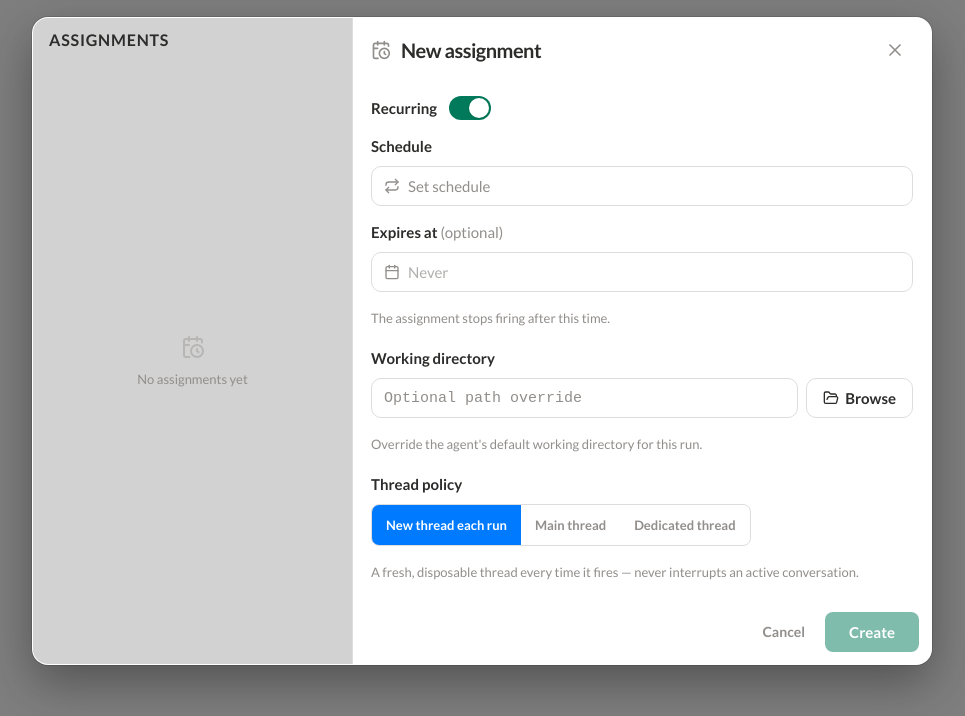
Scenario: AssignmentEditorModal › fills the working directory from the native folder picker
The image size is (965, 716).
(page scrolled)
Click the button with test id "assignment-editor-browse-working-directory" at [860, 398], box [806,378,913,418]
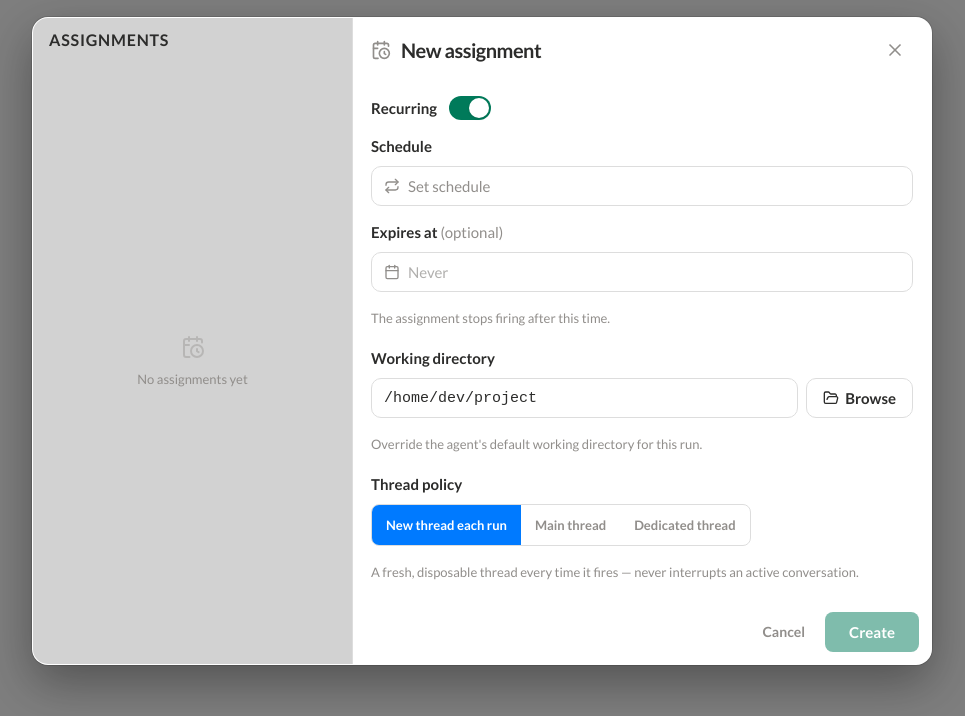
Now the field with test id "assignment-editor-working-directory-input" holds "/home/dev/project", box [371,378,798,418]
